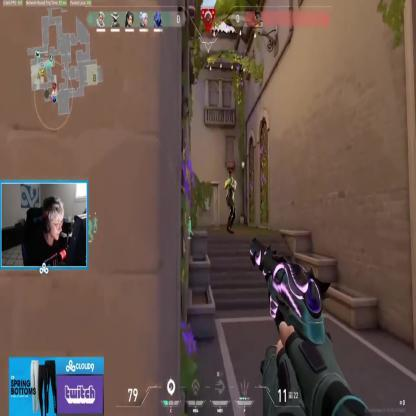enemy: (223, 170, 238, 235)
enemy_head: (228, 170, 232, 180)
